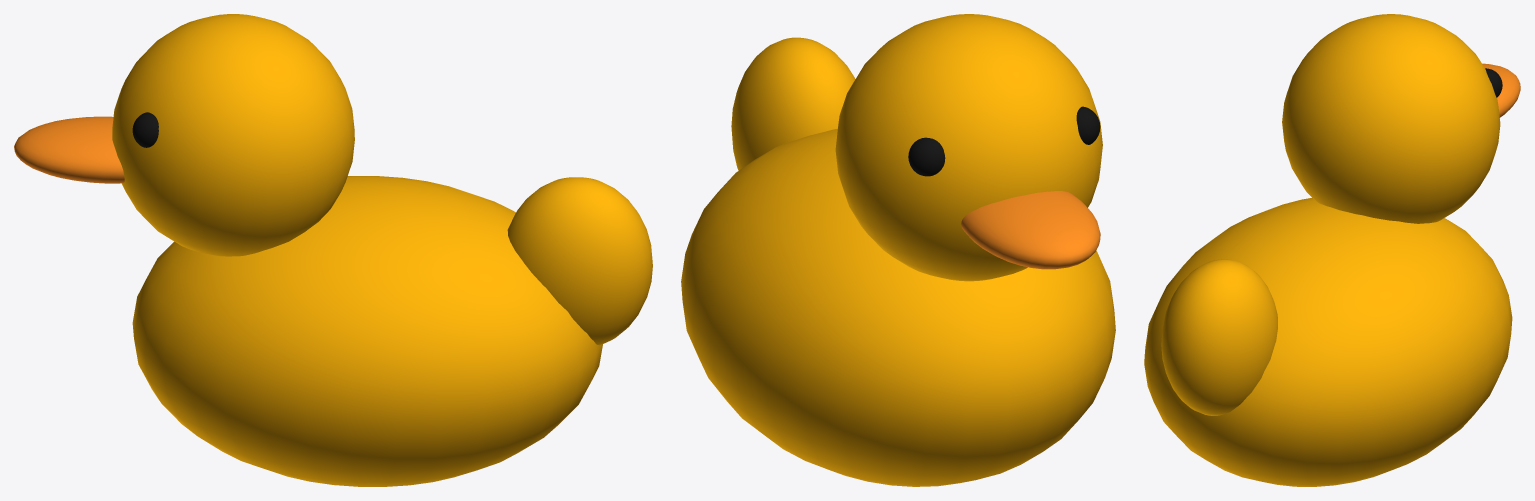
Rendered from decor_duck.glb.
The picture shows the model from 3 angles, left to right: view 1: azimuth 30°, elevation 25°; view 2: azimuth 150°, elevation 25°; view 3: azimuth 270°, elevation 25°; orthographic projection. The views are drawn at different scales.
Parts seen in each view (by area): view 1: decor_duck; view 2: decor_duck; view 3: decor_duck.
Boxes of the visible parts, x1=… form: decor_duck: x1=14, y1=14, x2=652, y2=486; decor_duck: x1=681, y1=14, x2=1115, y2=486; decor_duck: x1=1144, y1=14, x2=1520, y2=486.
Size of the model in its own units: 0.1298 by 0.1151 by 0.1.
